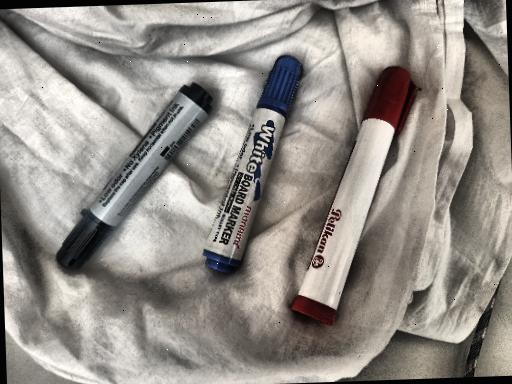marcador azul: (203, 55, 300, 272)
marcador negro: (56, 83, 212, 270)
marcador rojo: (292, 66, 416, 325)
